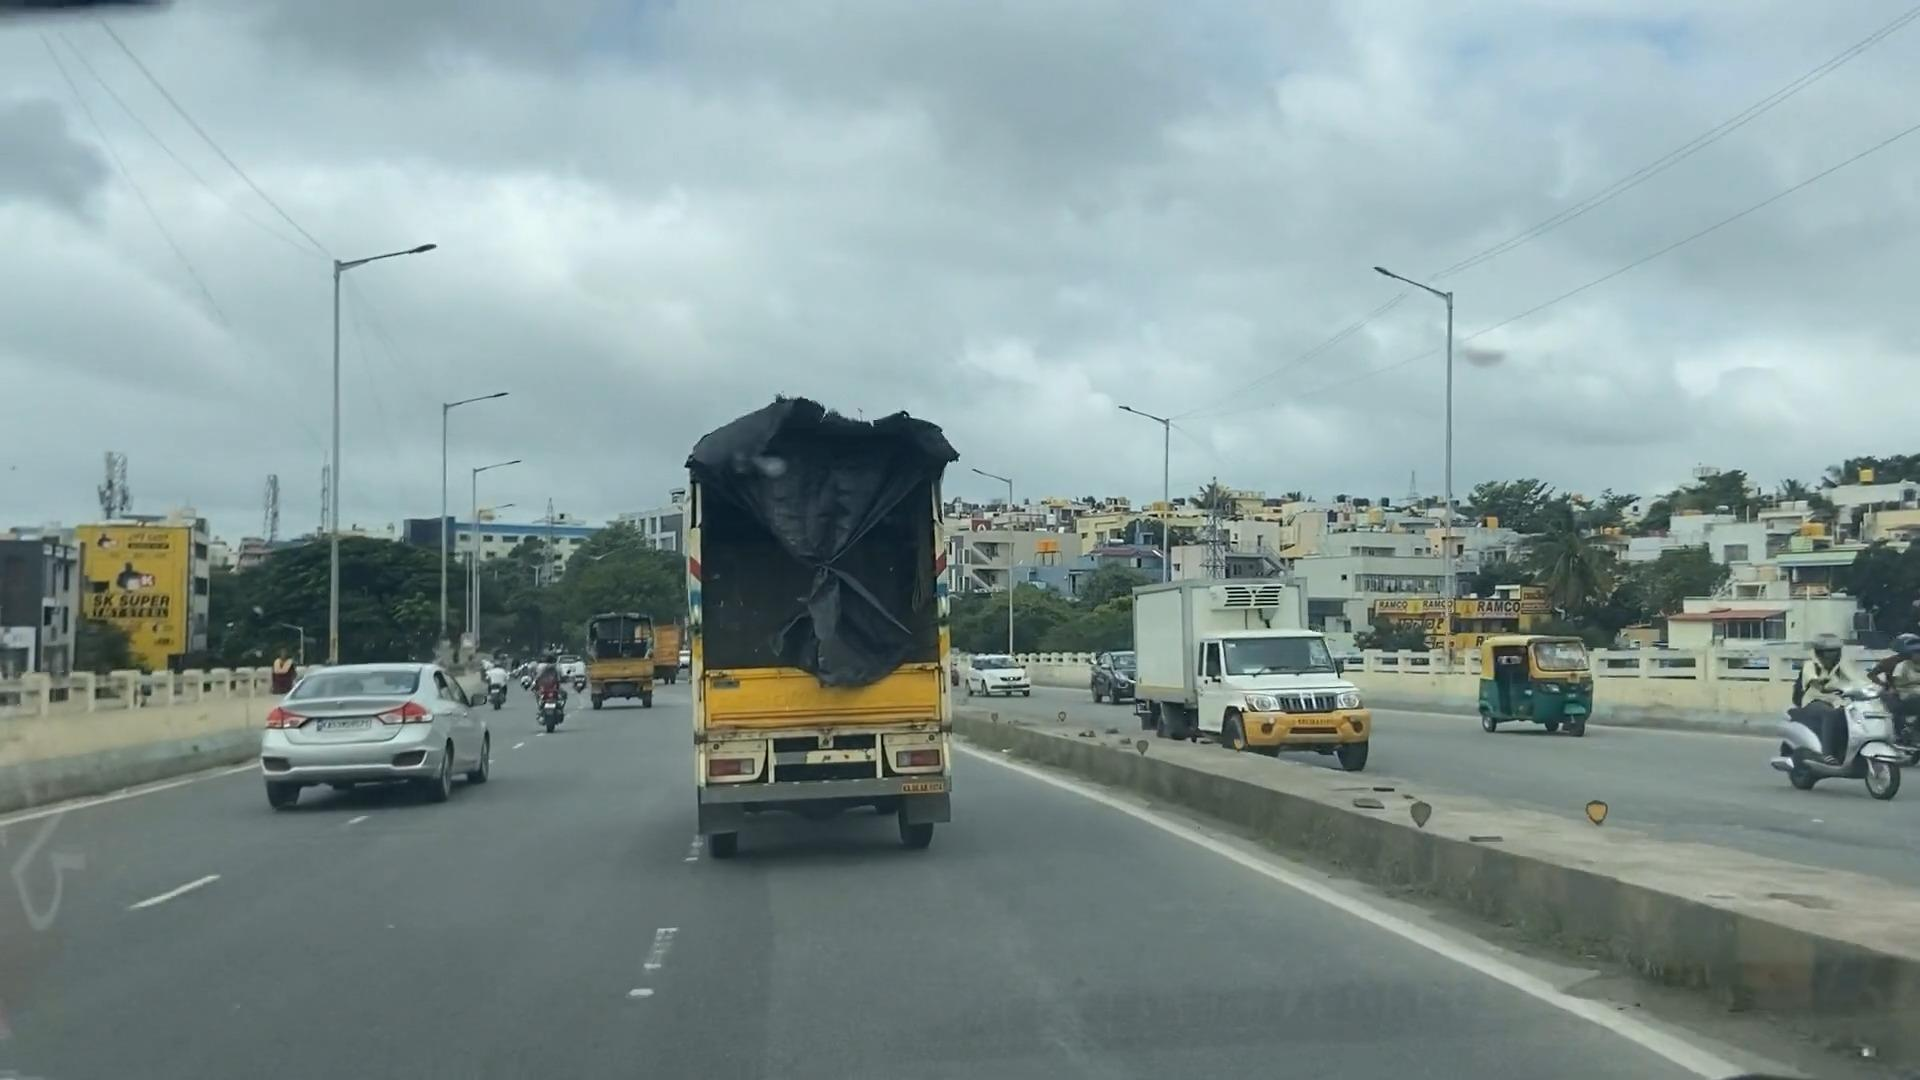HMV: (687, 385, 1031, 878), (1116, 570, 1386, 769), (576, 595, 690, 736)
